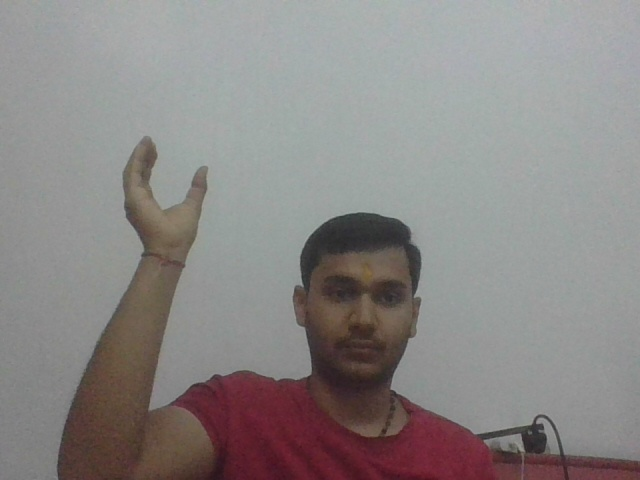U: (116, 132, 215, 248)
